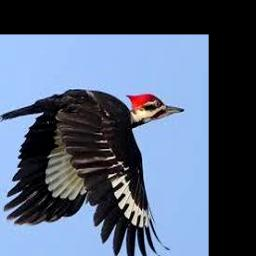Woodpecker: (0, 88, 184, 256)
